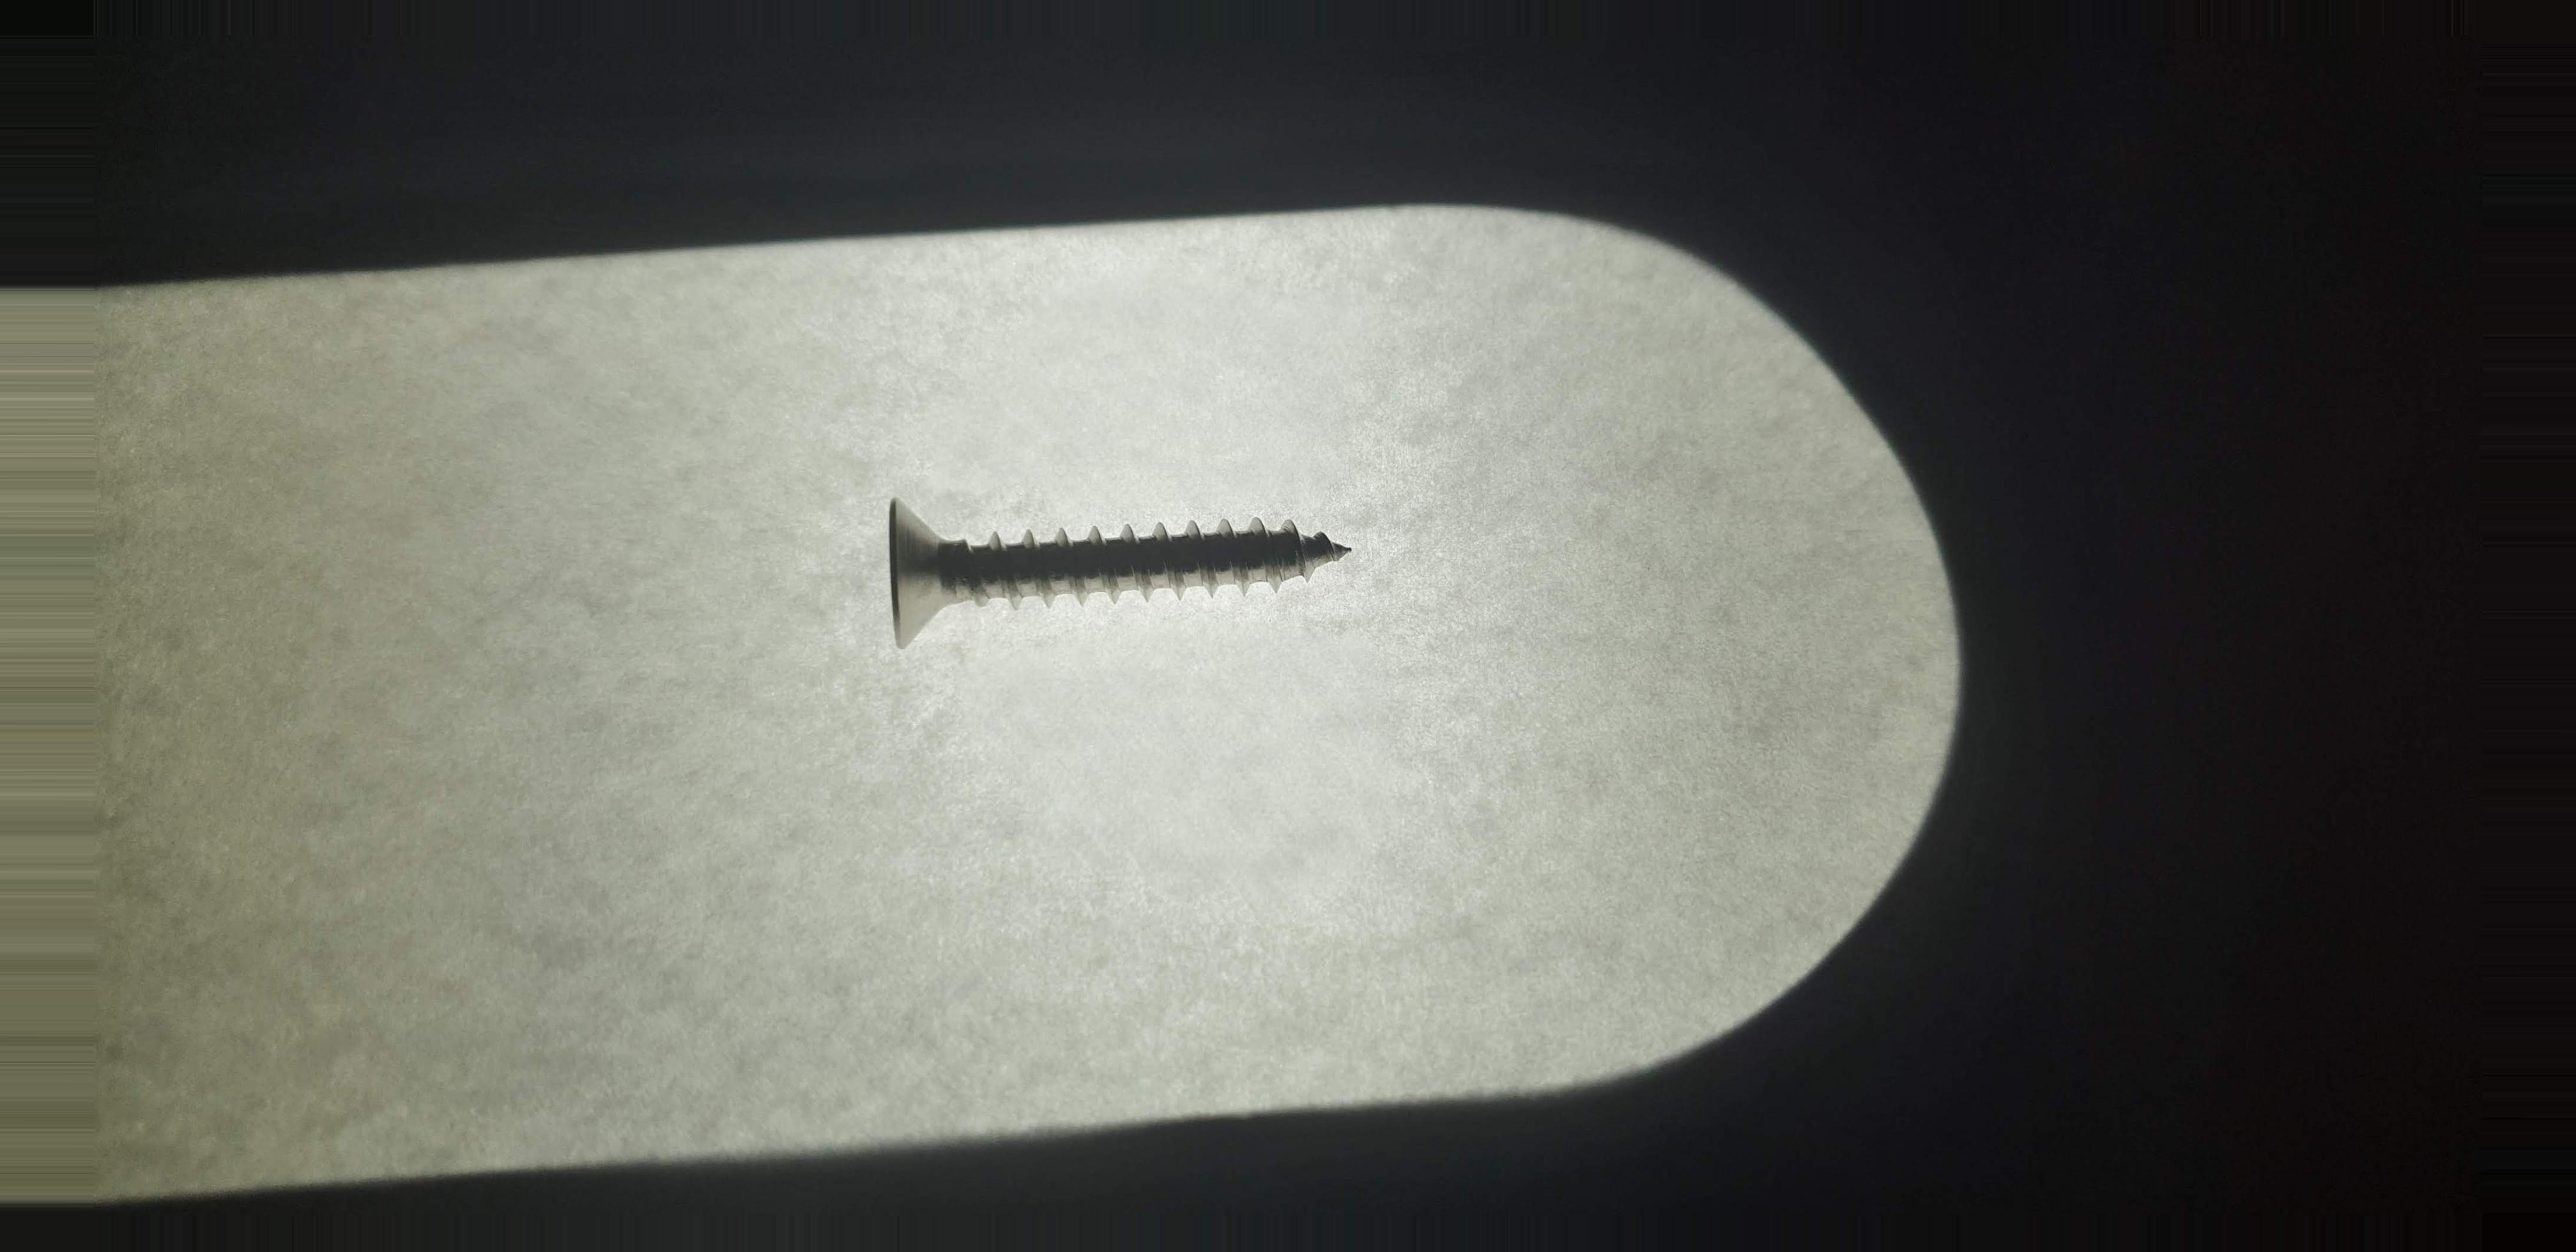S004: (853, 483, 1367, 656)
